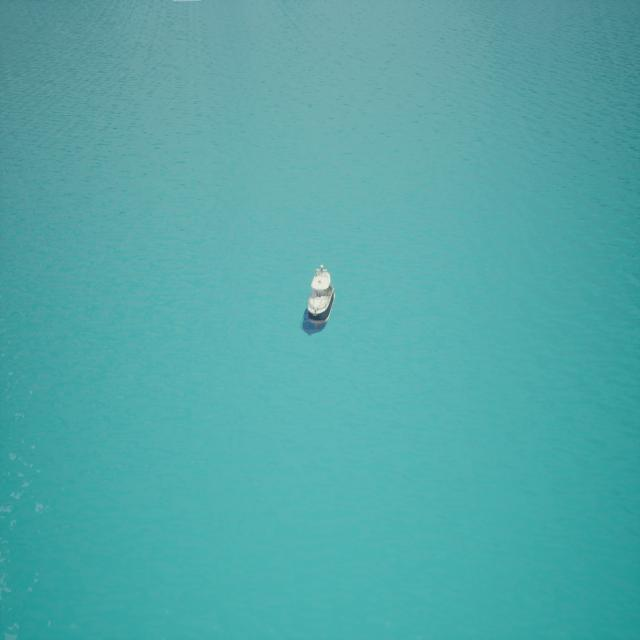ship: (302, 254, 339, 333)
